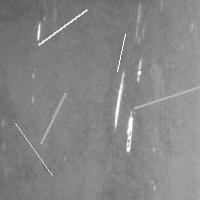scratches: (111, 58, 142, 153), (10, 118, 57, 180), (33, 5, 91, 50), (129, 79, 200, 113), (36, 88, 70, 148), (112, 29, 130, 76), (32, 15, 47, 43)
